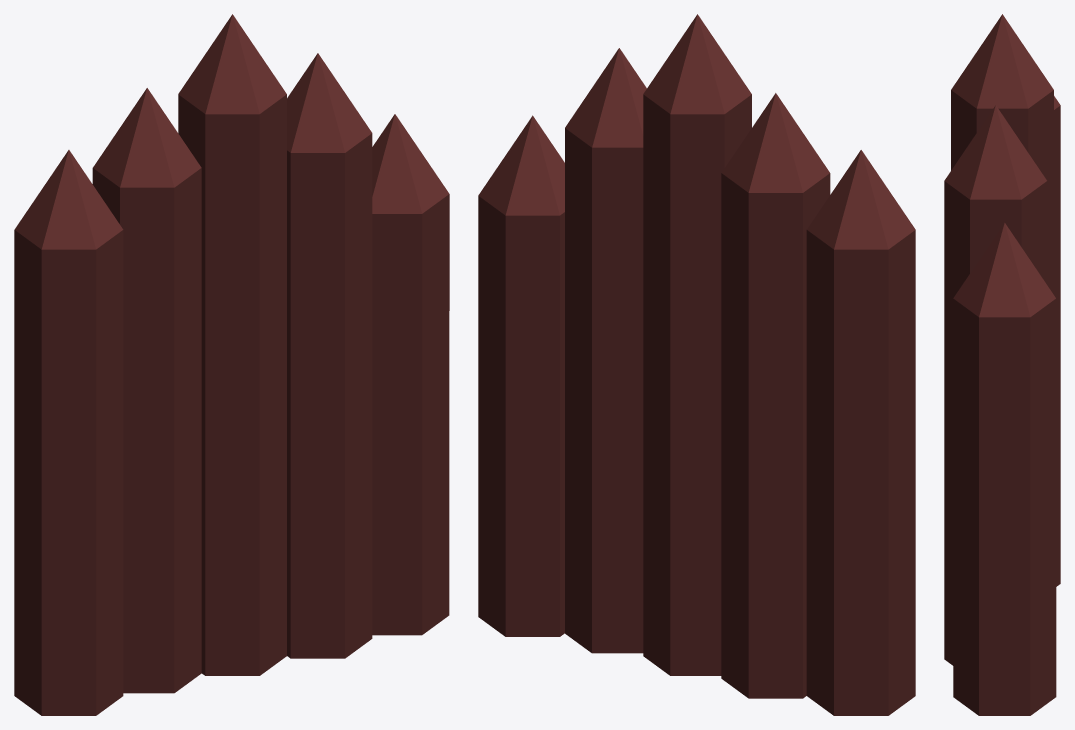
File: Wall_4_Red.fbx
3 renders of one model, left to right at view 1: azimuth 30°, elevation 25°; view 2: azimuth 150°, elevation 25°; view 3: azimuth 270°, elevation 25°, orthographic. The views are drawn at different scales.
Parts seen in each view (by area): view 1: Wall_4_Red; view 2: Wall_4_Red; view 3: Wall_4_Red.
Part boxes in pixels (x1,y1,x2,y2): Wall_4_Red: (14,14,449,715); Wall_4_Red: (478,14,915,715); Wall_4_Red: (944,14,1060,715).
Size of the model in its own units: 200 by 300 by 52.08.
